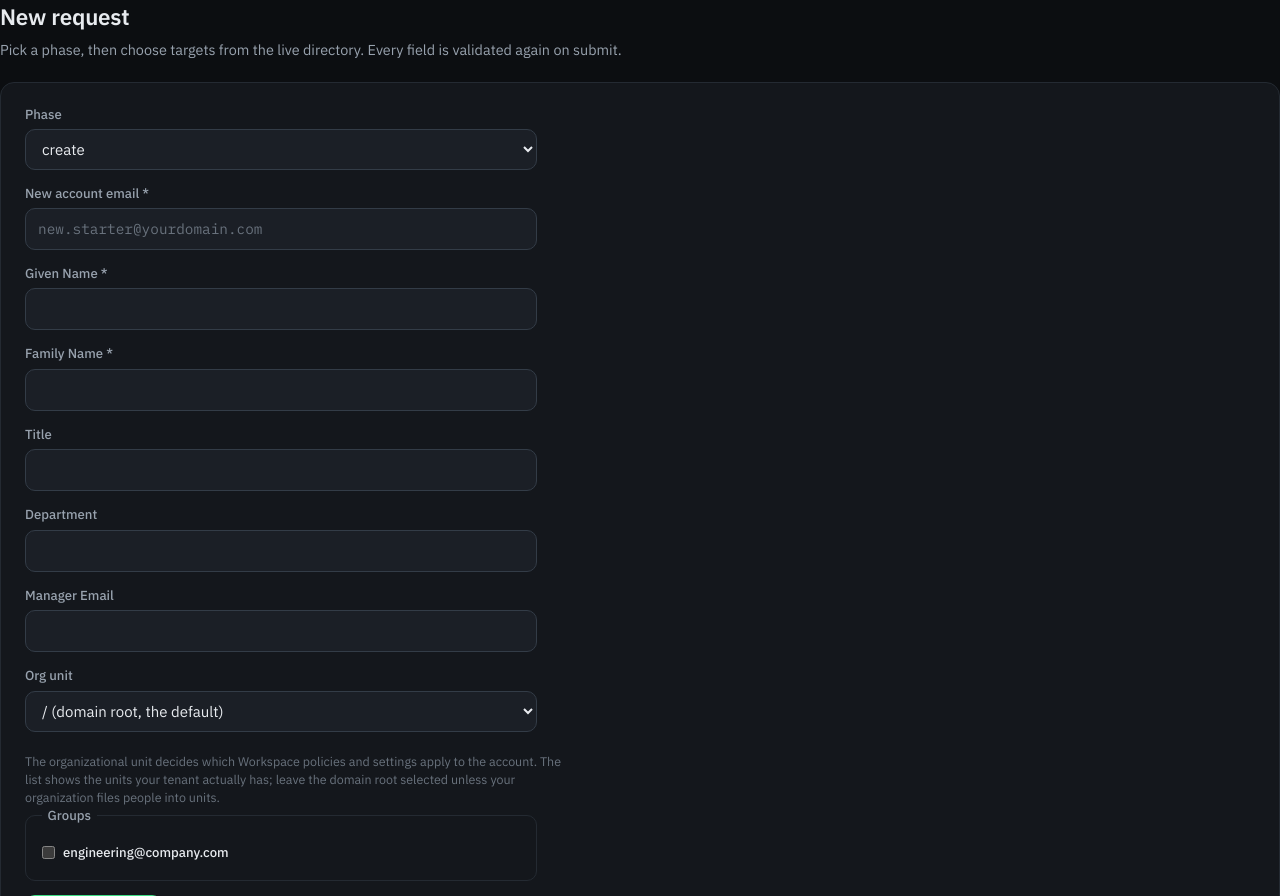
Test case: AC-2 and AC-3: the target, groups and org unit are chosen, not typed › searches the directory and selects a user from the results
The width and height of the screenshot is (1280, 896).
Select "delete" in the dropdown labelled "Phase" at {"x": 281, "y": 150}, box left=25, top=129, right=537, bottom=170
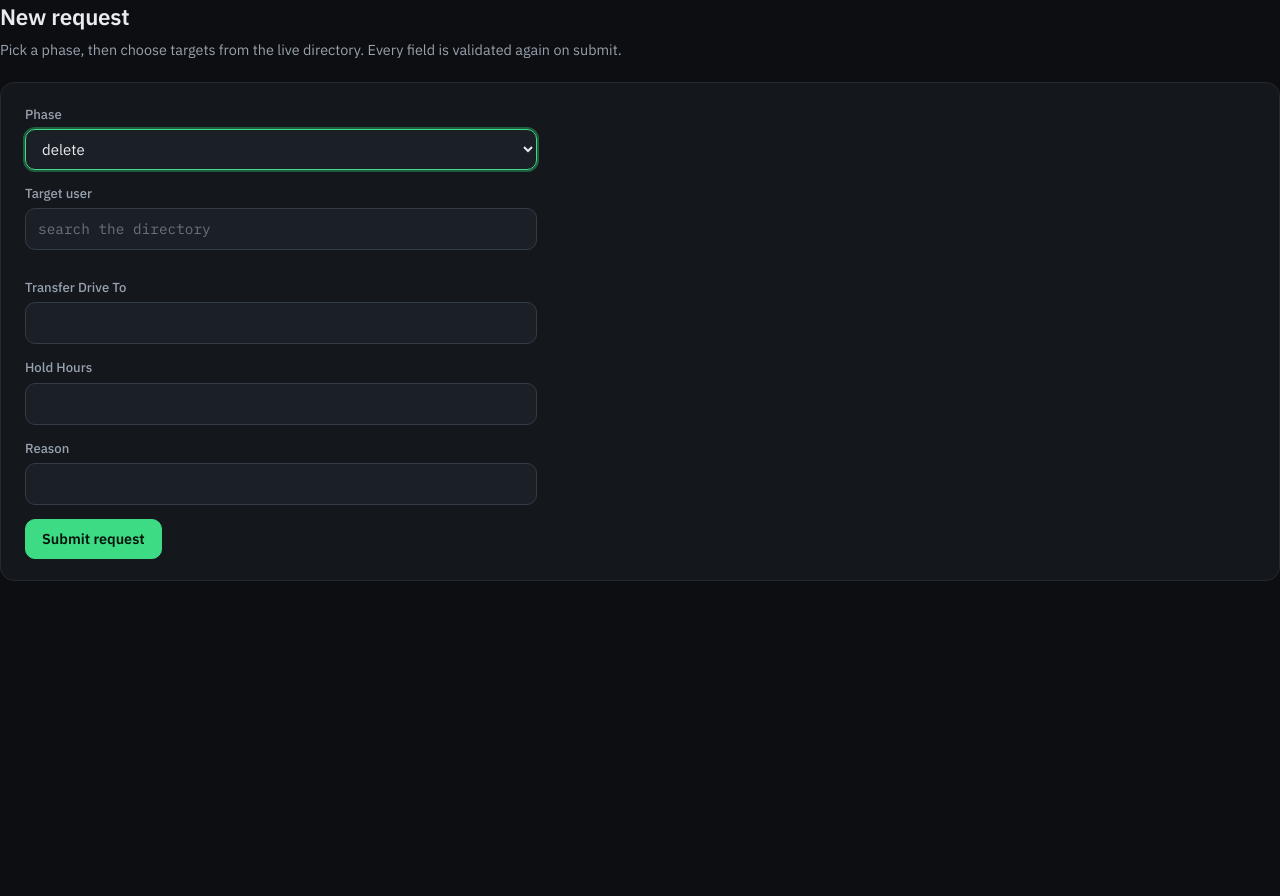
Type "ada" into the search field labelled "Target user" at {"x": 281, "y": 229}, box left=25, top=208, right=537, bottom=250
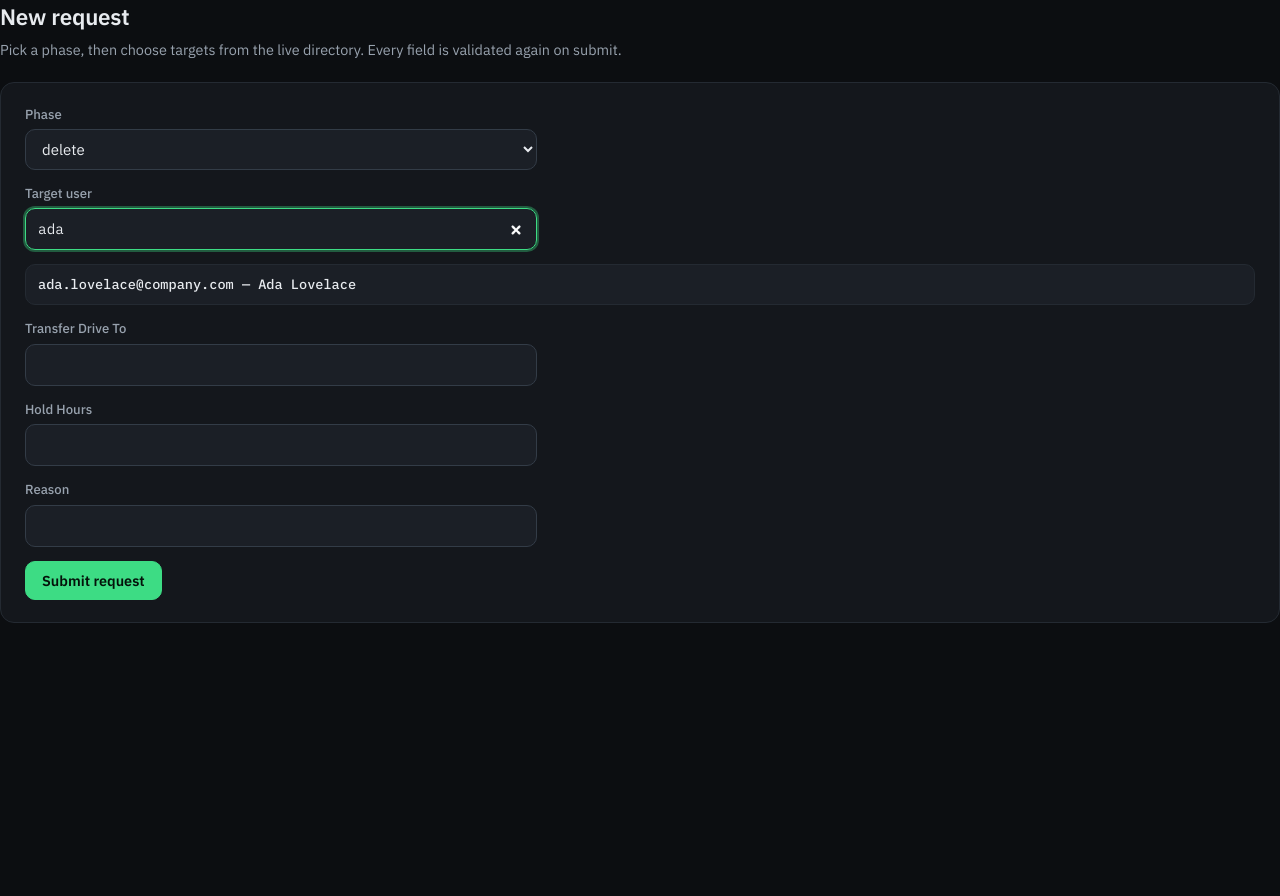
Click the button "ada.lovelace@company.com — Ada Lovelace" at {"x": 136, "y": 284}, box left=25, top=264, right=1255, bottom=305
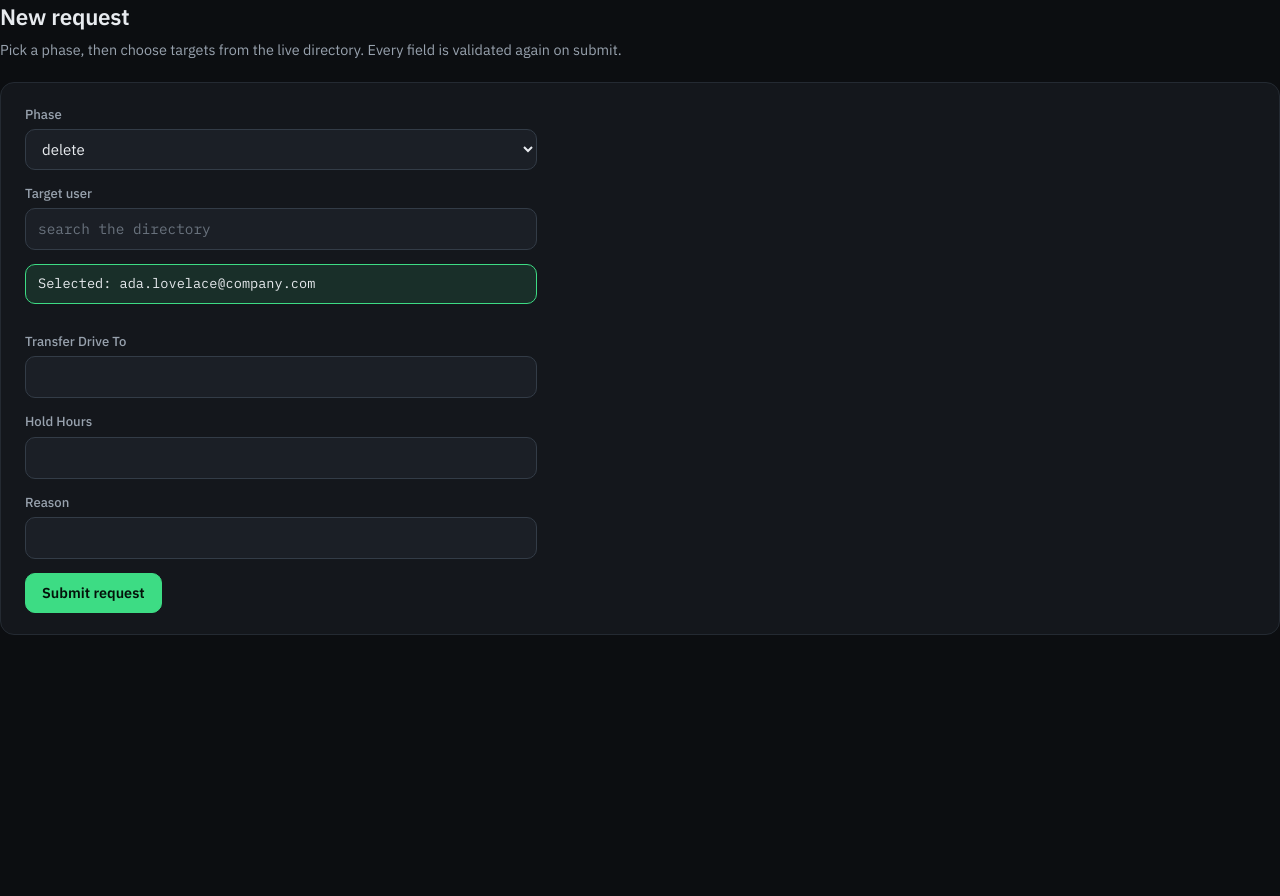
Check: the text "Selected: ada.lovelace@company.com" is shown, box left=25, top=264, right=537, bottom=304
